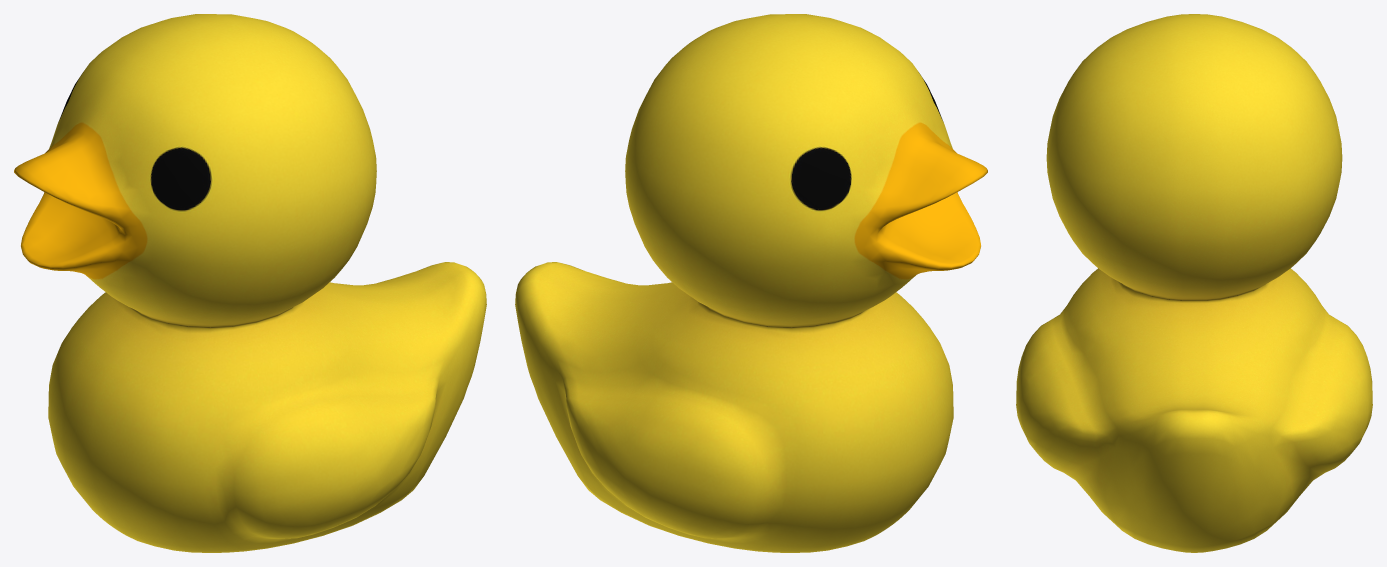
File: r_duck.glb
3 renders of one model, left to right at view 1: azimuth 30°, elevation 25°; view 2: azimuth 150°, elevation 25°; view 3: azimuth 270°, elevation 25°, orthographic. The views are drawn at different scales.
Visible parts, largest first — view 1: 2_low_0; view 2: 2_low_0; view 3: 2_low_0.
Boxes of the visible parts, bbox=[...] form: 2_low_0: bbox=[14, 14, 486, 552]; 2_low_0: bbox=[515, 14, 987, 552]; 2_low_0: bbox=[1016, 14, 1372, 552].
Bounding box in the file's own units: 21.47 × 21.64 × 15.86.
1 material, 1 textured.
